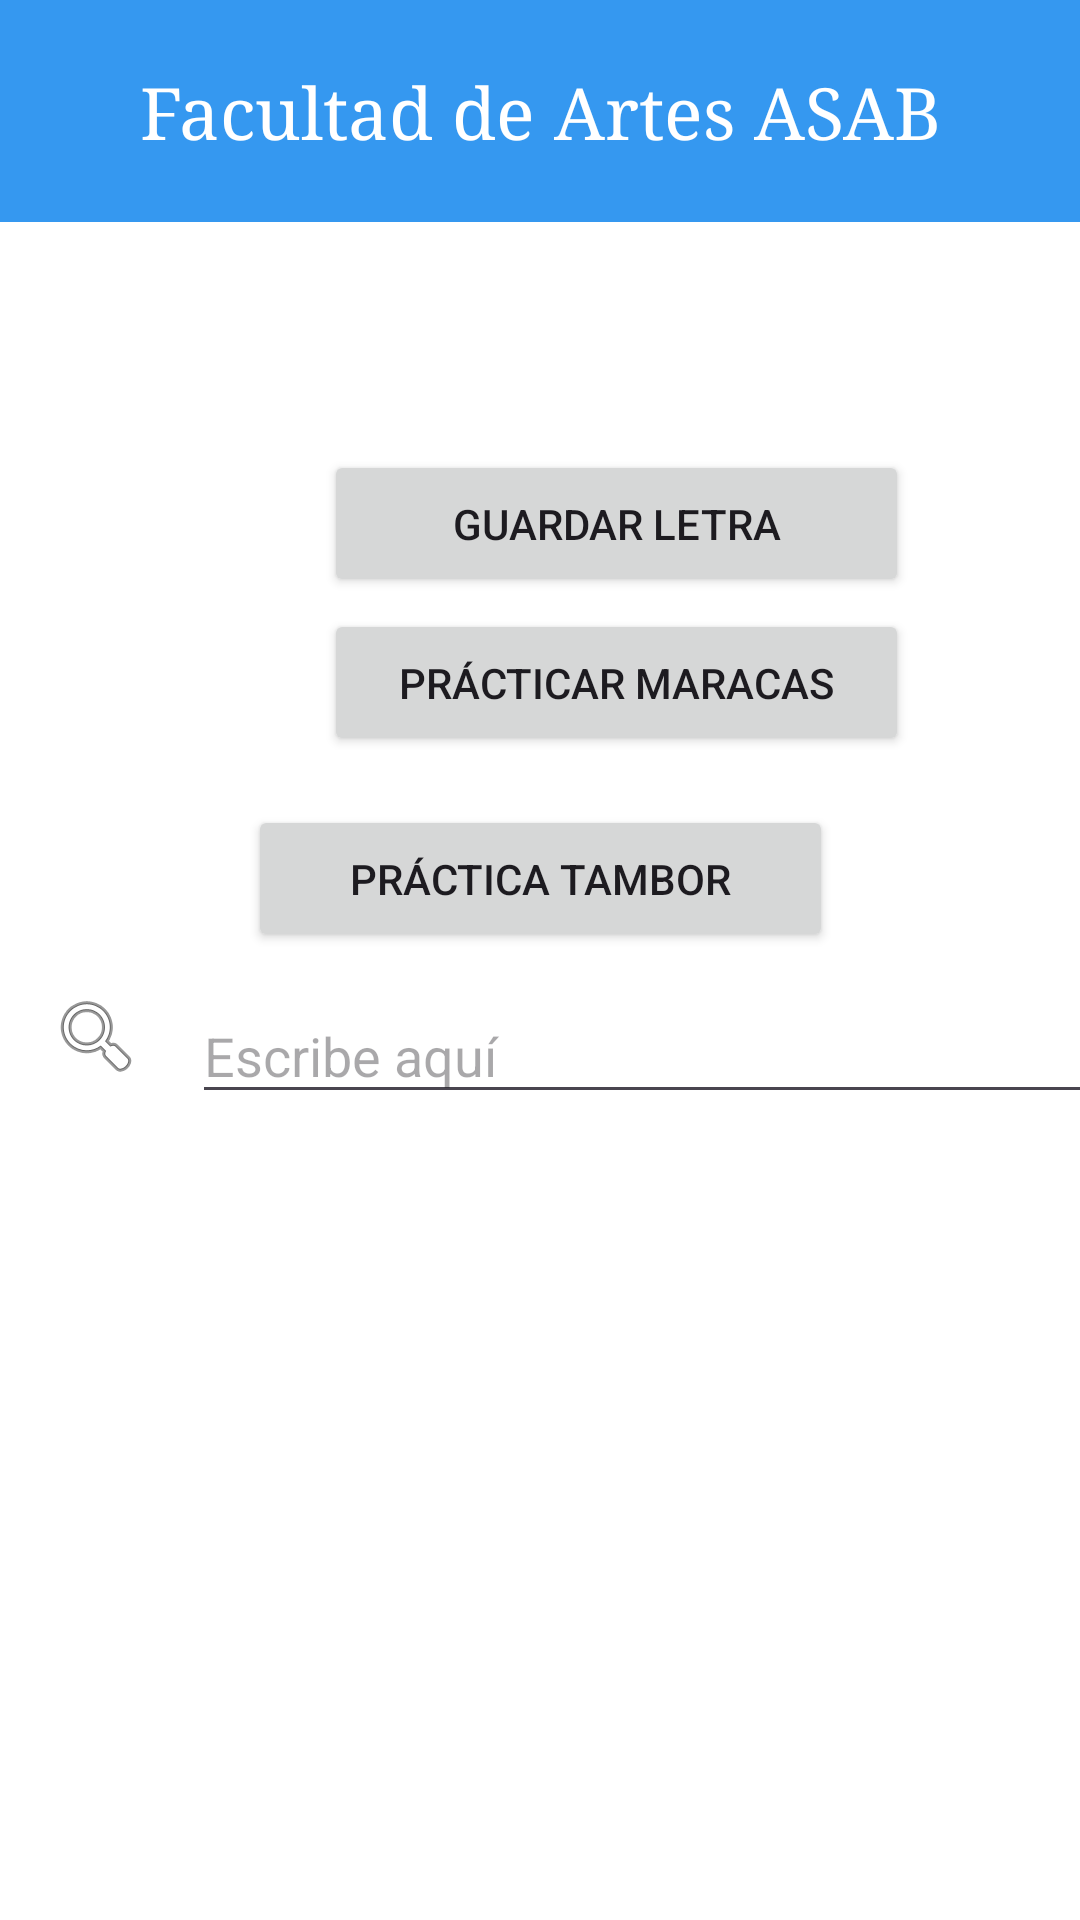

Icons on this 1080*1920 Android screen, each with its box as rect(x1, y1, x2, y2):
search: rect(60, 1001, 132, 1072)
